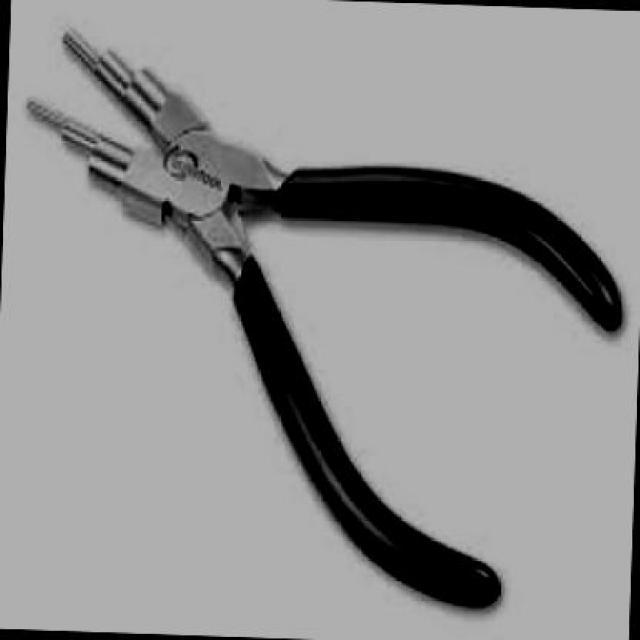pliers: (0, 13, 638, 638)
